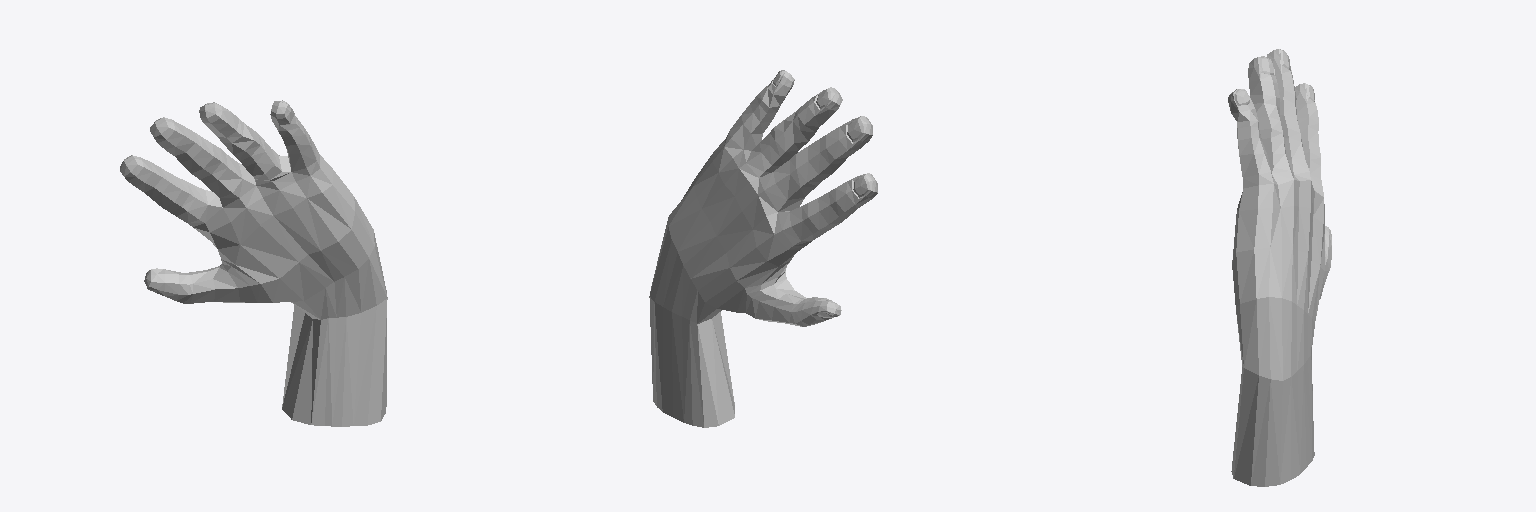
File: handAnimated4_000119.obj
3 renders of one model, left to right at view 1: azimuth 30°, elevation 25°; view 2: azimuth 150°, elevation 25°; view 3: azimuth 270°, elevation 25°, orthographic.
Visible parts, largest first — view 1: Cube.000_Cube.017_Detached_Detached; view 2: Cube.000_Cube.017_Detached_Detached; view 3: Cube.000_Cube.017_Detached_Detached.
Part boxes in pixels (x1,y1,x2,y2): Cube.000_Cube.017_Detached_Detached: (120, 100, 387, 426); Cube.000_Cube.017_Detached_Detached: (649, 70, 877, 427); Cube.000_Cube.017_Detached_Detached: (1228, 49, 1331, 486).
Size of the model in its own units: 0.8396 by 1.15 by 0.3096.